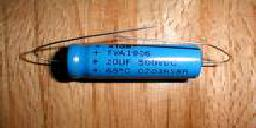Electrolytic-Capacitor: (37, 31, 228, 83)
